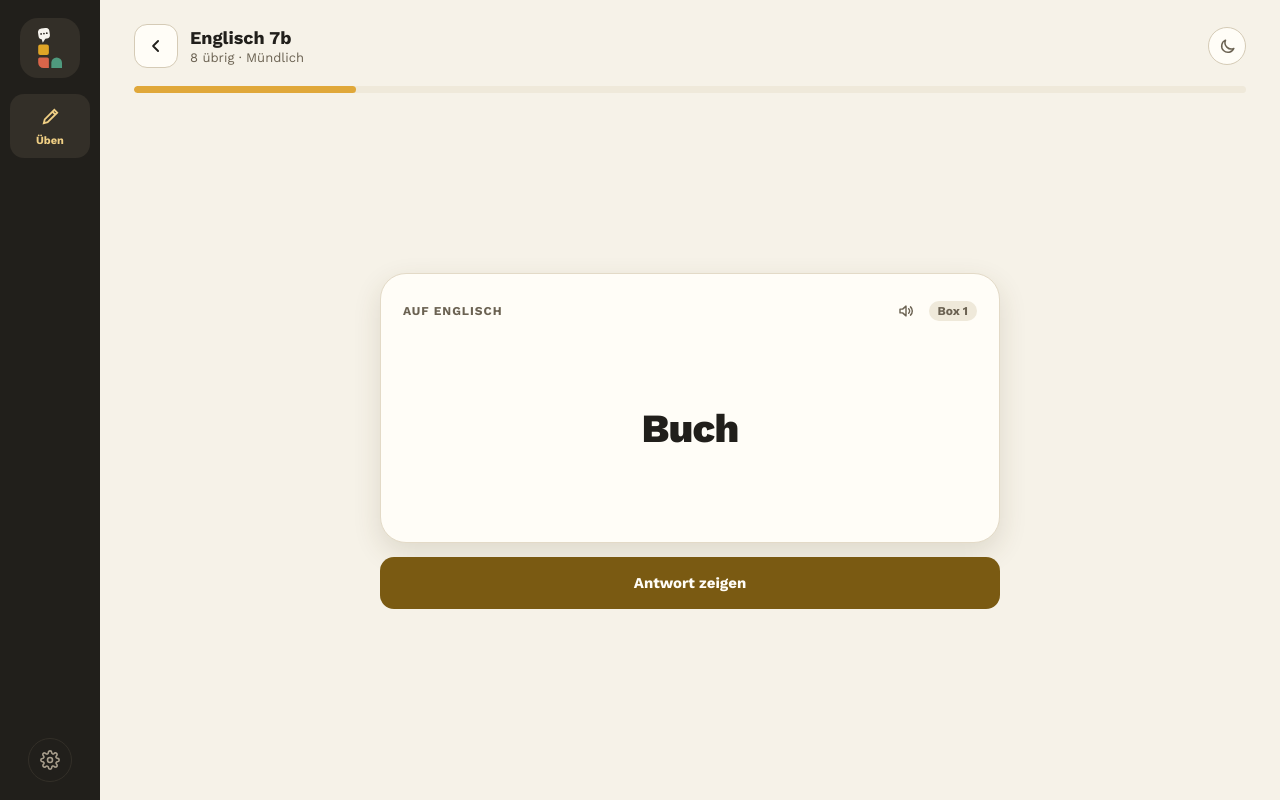
it: LernBox: Runde fortsetzen (C-001) › fragt bei einem Tipp auf die Leiste und beim Knopf der Runde nach
Earlier steps of the test are not shown.
Click the button "Antwort zeigen" at (690, 582), box [380,556,1000,608]
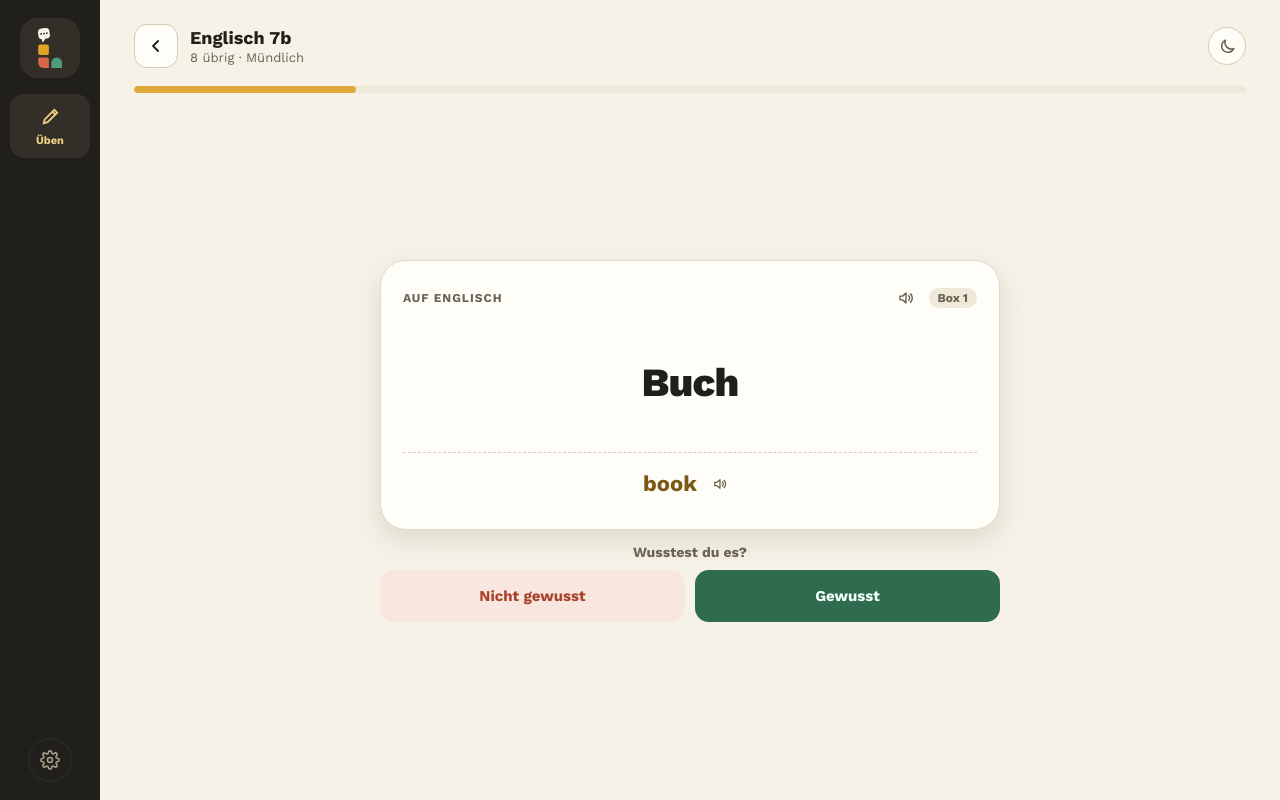
Click the button "Gewusst" at (848, 596), box [695,570,1000,622]
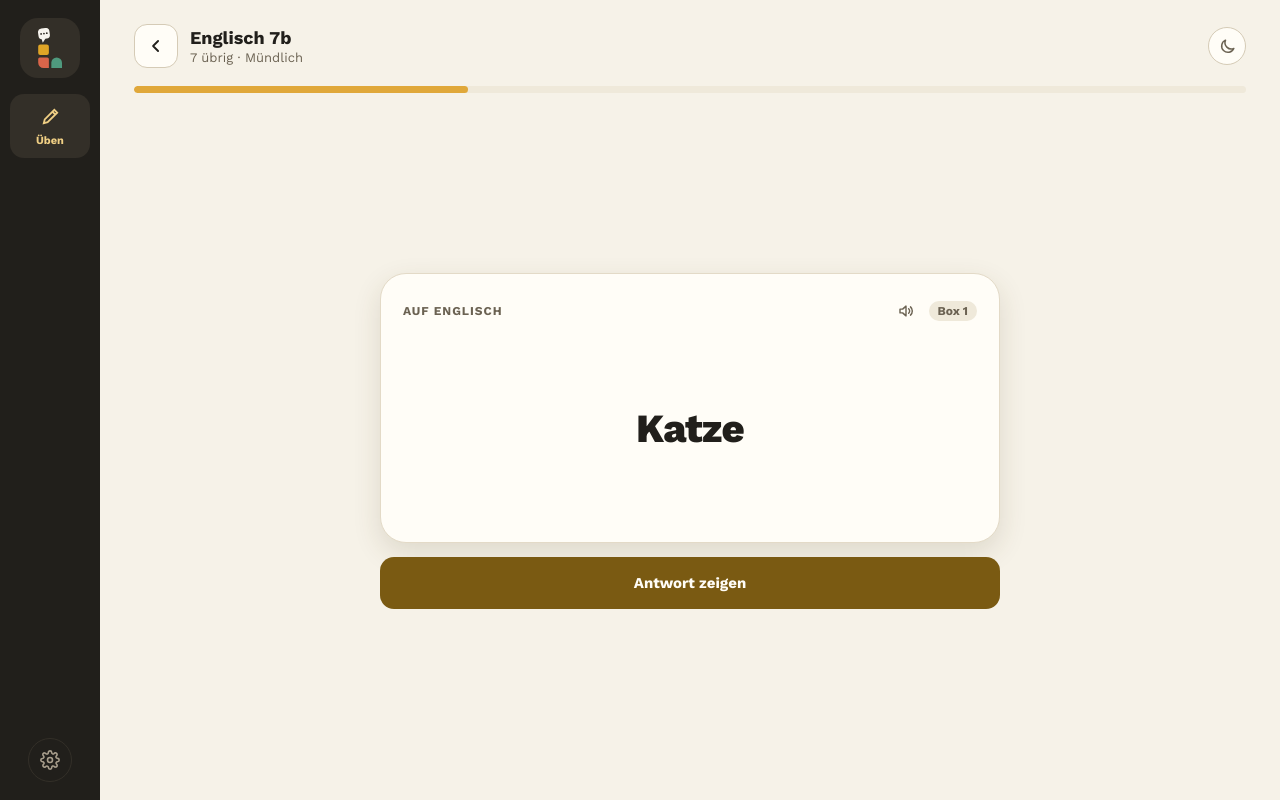
expect the heading "Buch" no longer shows "Buch": met
Click the link "Üben" at (50, 126), box [10,94,90,158]
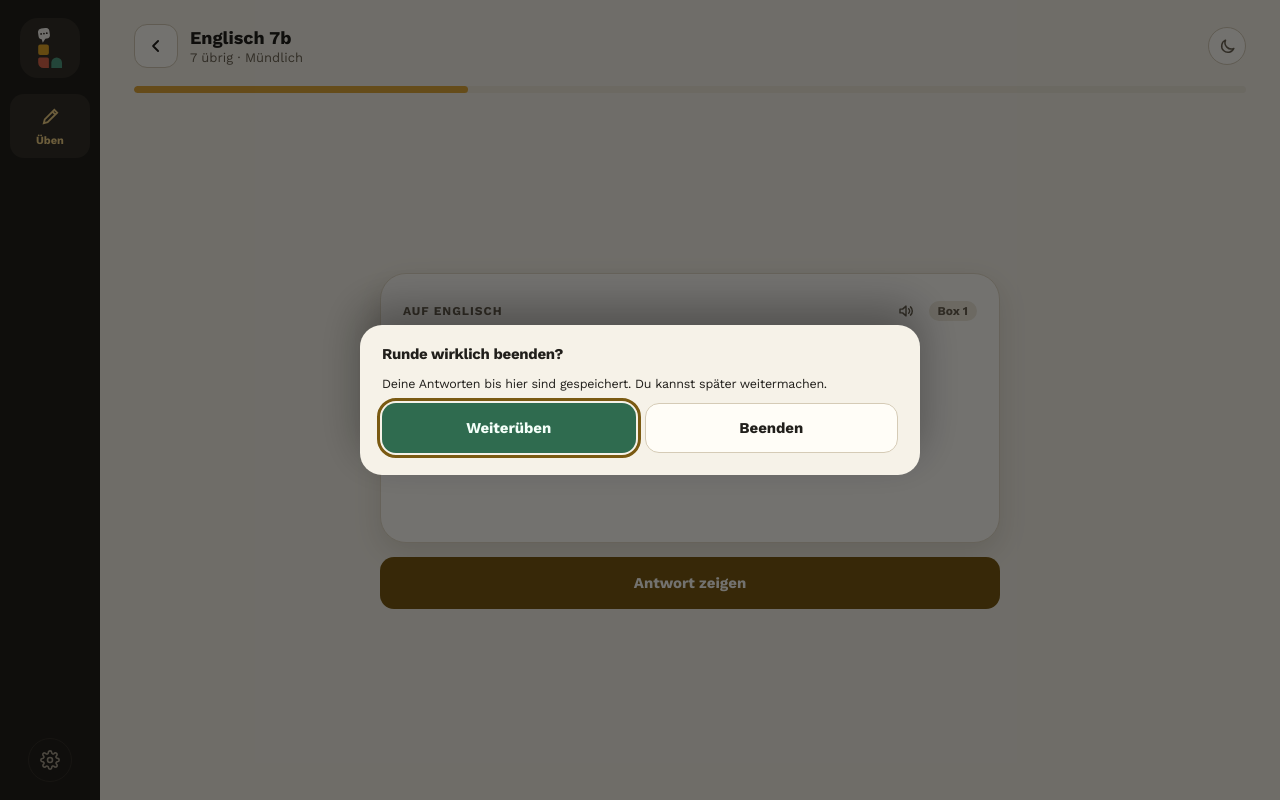
expect the dialog shows "Runde wirklich beenden?": met, box [382,345,563,363]
Click the button "Weiterüben" at (509, 428), box [382,403,636,453]
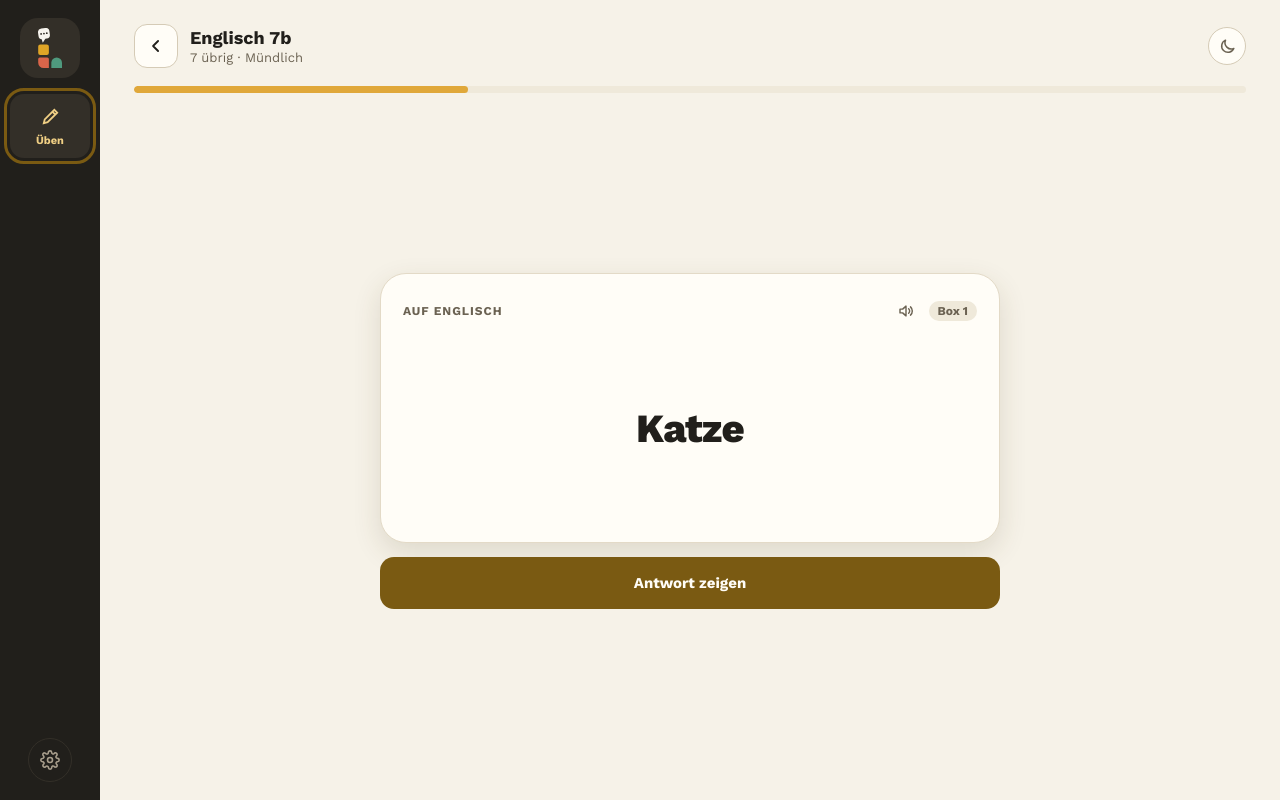
Click the button named "Runde beenden" at (156, 46), box [134,24,178,68]
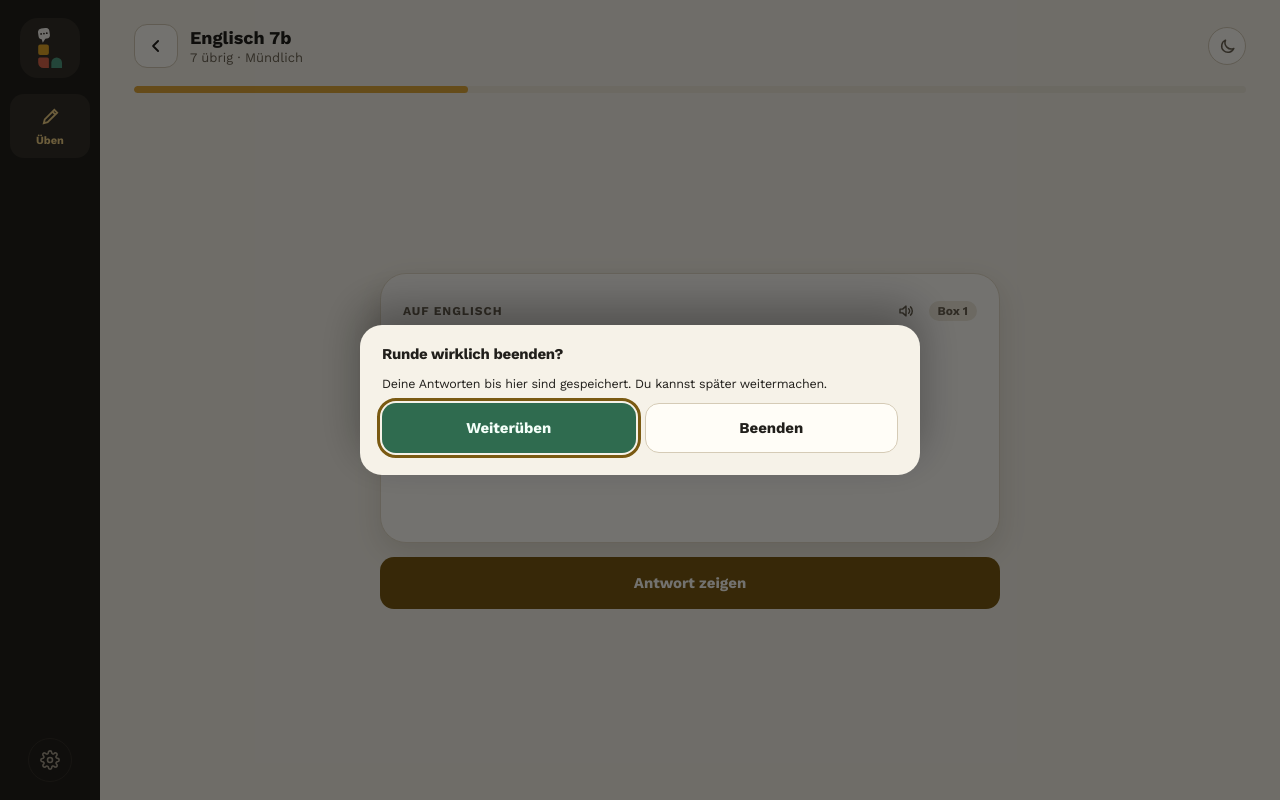
Click the button "Beenden" at (771, 428), box [644,403,898,453]
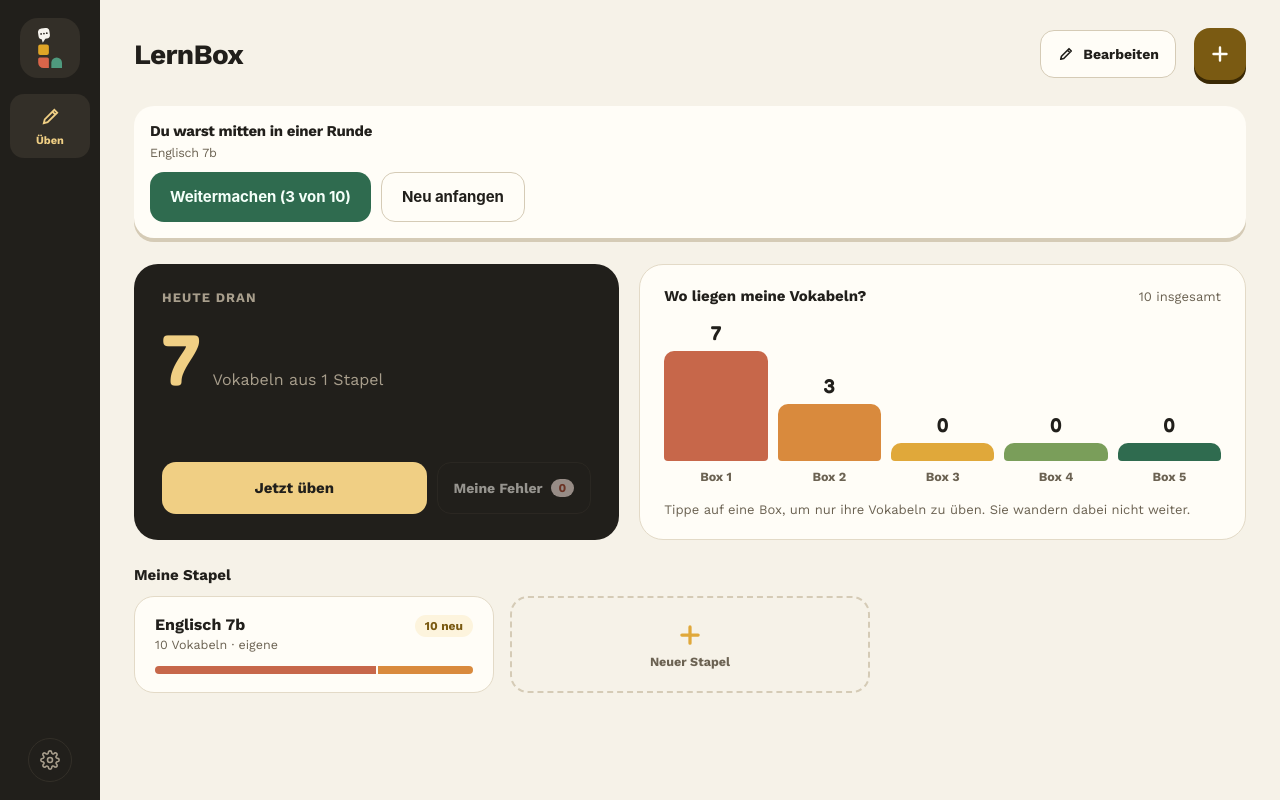
expect the button "Weitermachen (3 von 10)" is shown: met, box [150,172,371,222]
